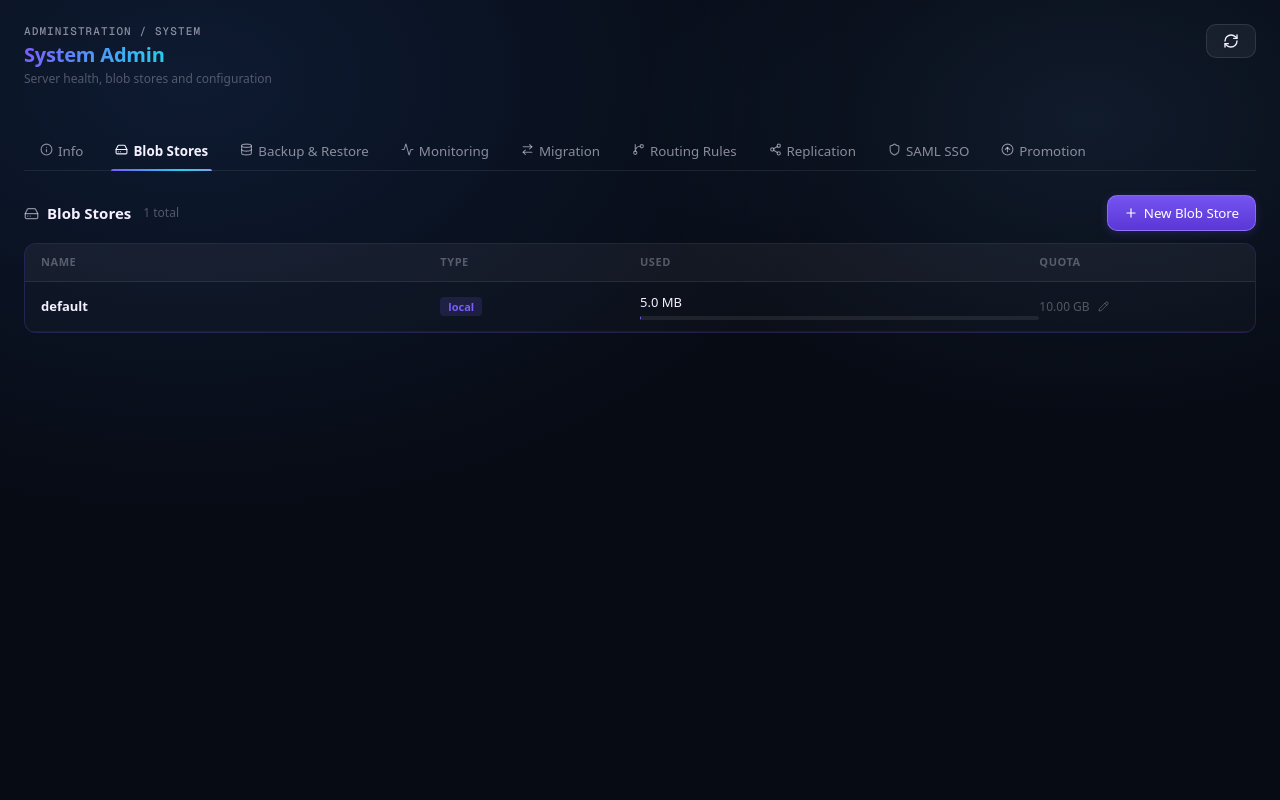
Scenario: AdminPage — Blob Stores tab › opens the blob store detail modal and shows linked repos
The image size is (1280, 800).
Click the text "default": (64, 306) [41,297,88,315]
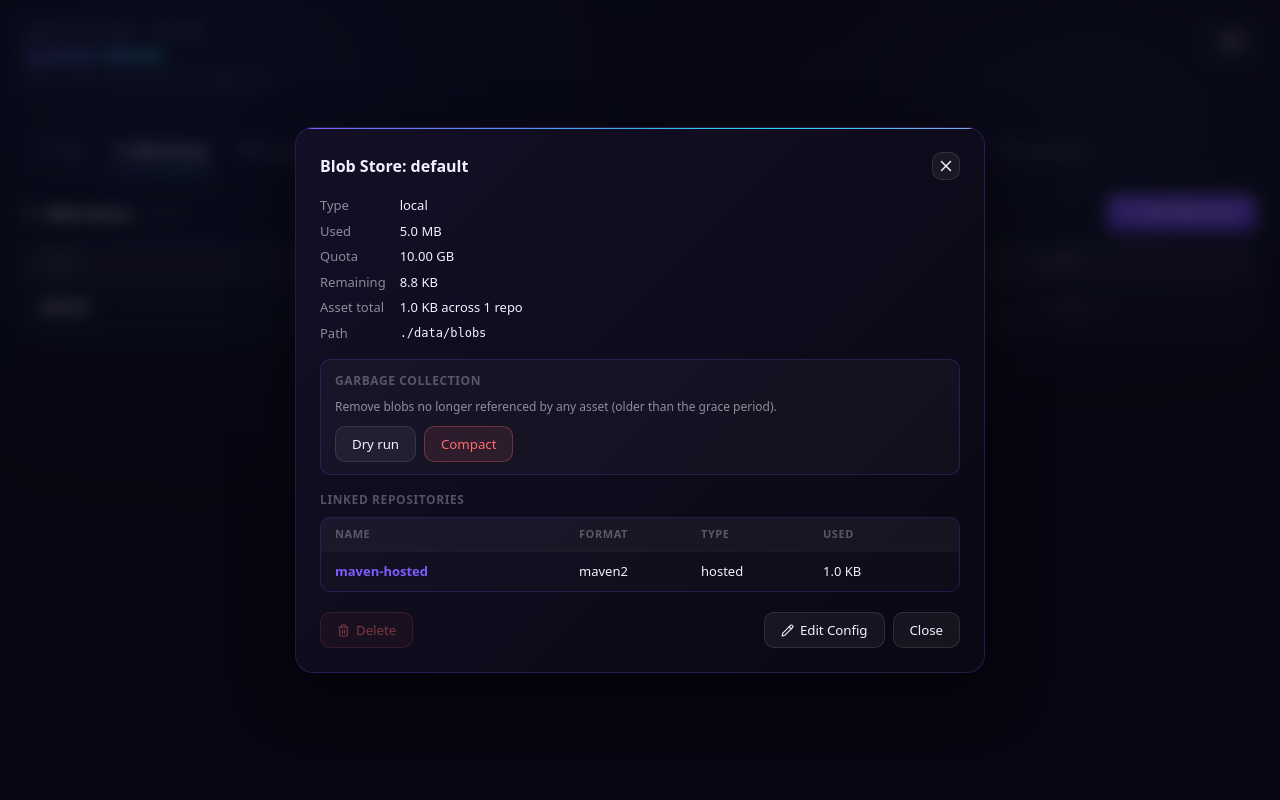
Now the heading "Blob Store: default" is shown, box [320,154,468,178]
Now the text "Linked Repositories" is shown, box [320,491,464,508]
Now the text "maven-hosted" is shown, box [335,562,428,580]
